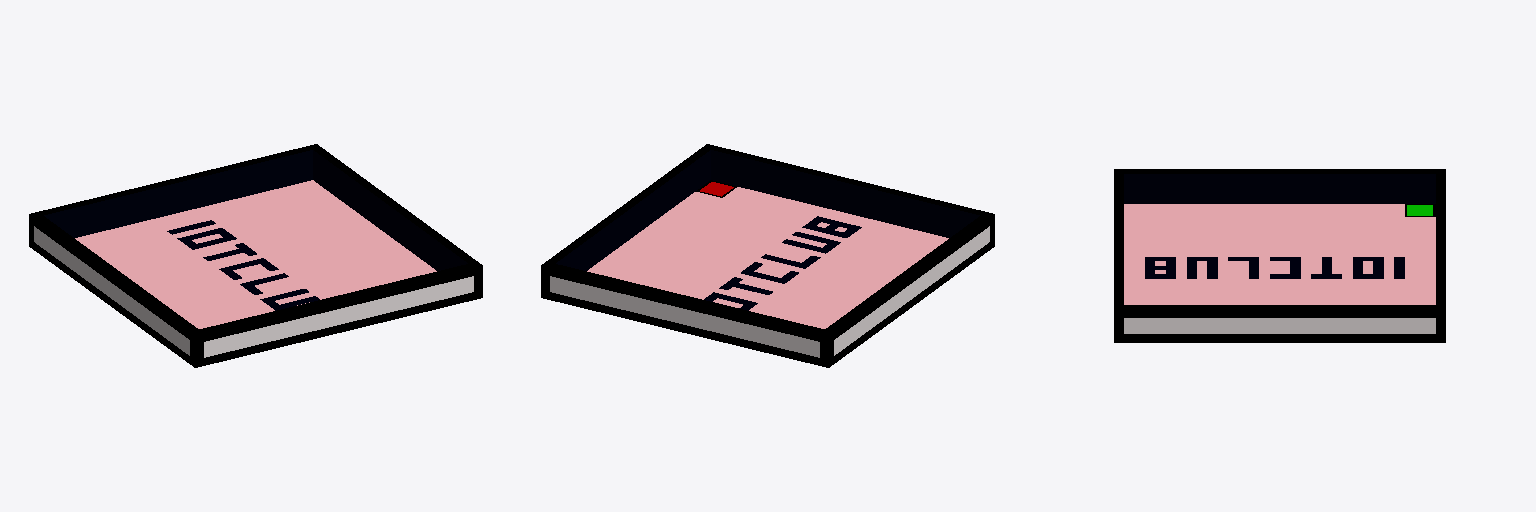
The model's file is nav.obj.
The picture shows the model from 3 angles: view 1: azimuth 30°, elevation 25°; view 2: azimuth 150°, elevation 25°; view 3: azimuth 270°, elevation 25°; orthographic projection.
Visible parts, largest first — view 1: Cube; view 2: Cube; view 3: Cube.
Part boxes in pixels (x1,y1,x2,y2): Cube: (29,144,482,367); Cube: (541,144,994,367); Cube: (1114,169,1445,342).
Bounding box in the file's own units: 5 × 0.5428 × 5.